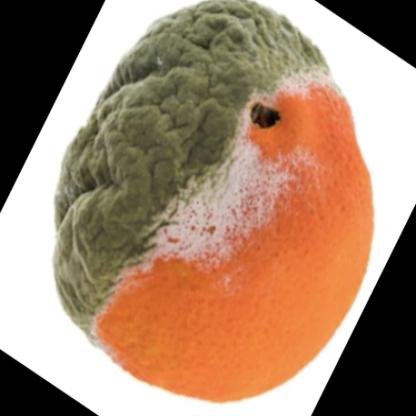rotten: (52, 1, 374, 406)
